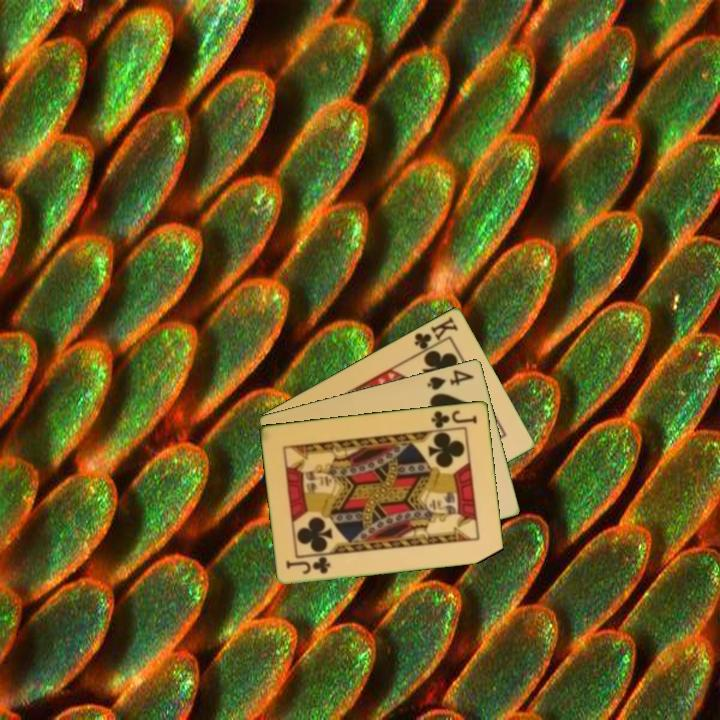4s: (424, 366, 477, 393)
Jc: (428, 406, 480, 431), (282, 554, 334, 577)
Kc: (411, 312, 461, 357)
